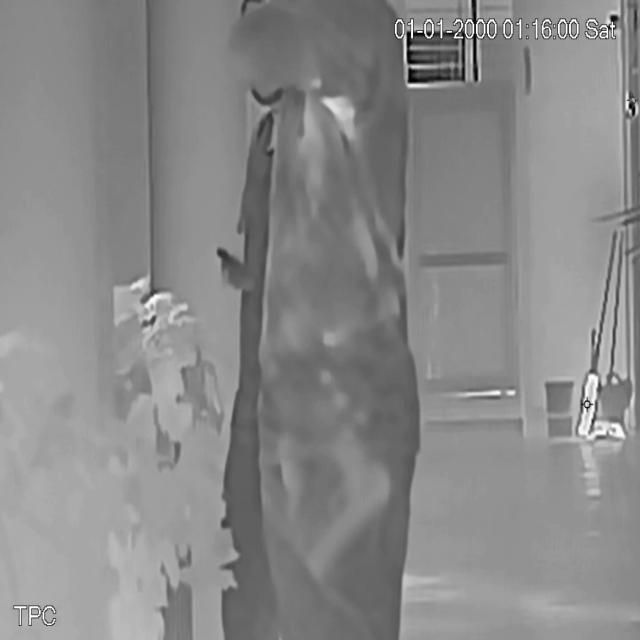Weapon: (302, 427, 404, 587)
